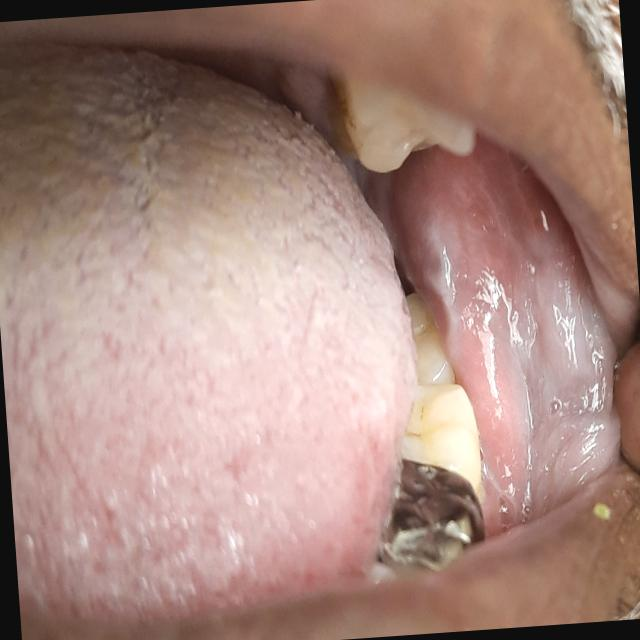Cancer: (392, 63, 632, 550)
